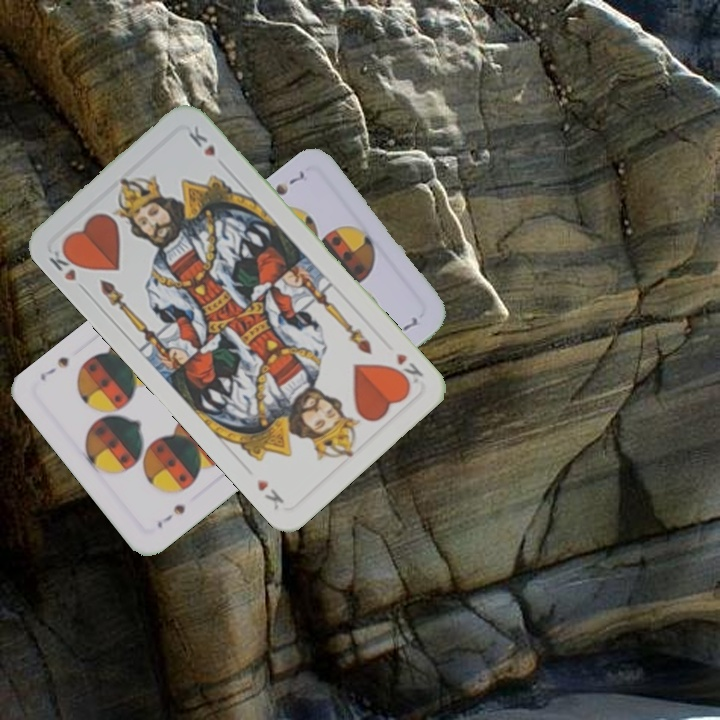HK: (45, 240, 86, 284), (387, 349, 426, 389)
S7: (271, 166, 310, 198), (153, 500, 188, 532)
